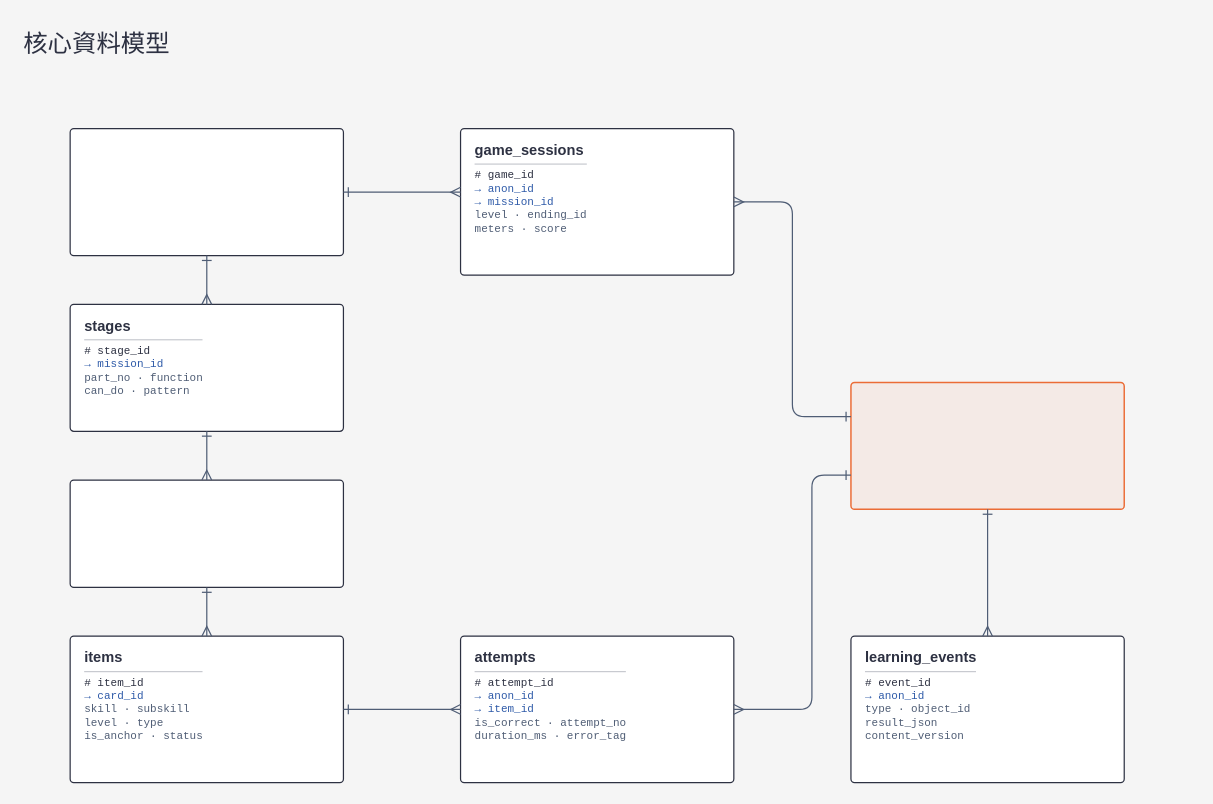
This 1213x804 diagram has some shape labels left out. Here are the shapes that lost their labels. From the top down, the box of each, then its label:
(69, 127, 343, 256): missions # mission_id sdg · sdg_target role · scenario version · status
(850, 381, 1124, 509): player_profiles # anon_id → user_id (login only) nickname · level consent flags
(69, 479, 343, 587): cards # card_id → stage_id card_type · payload
